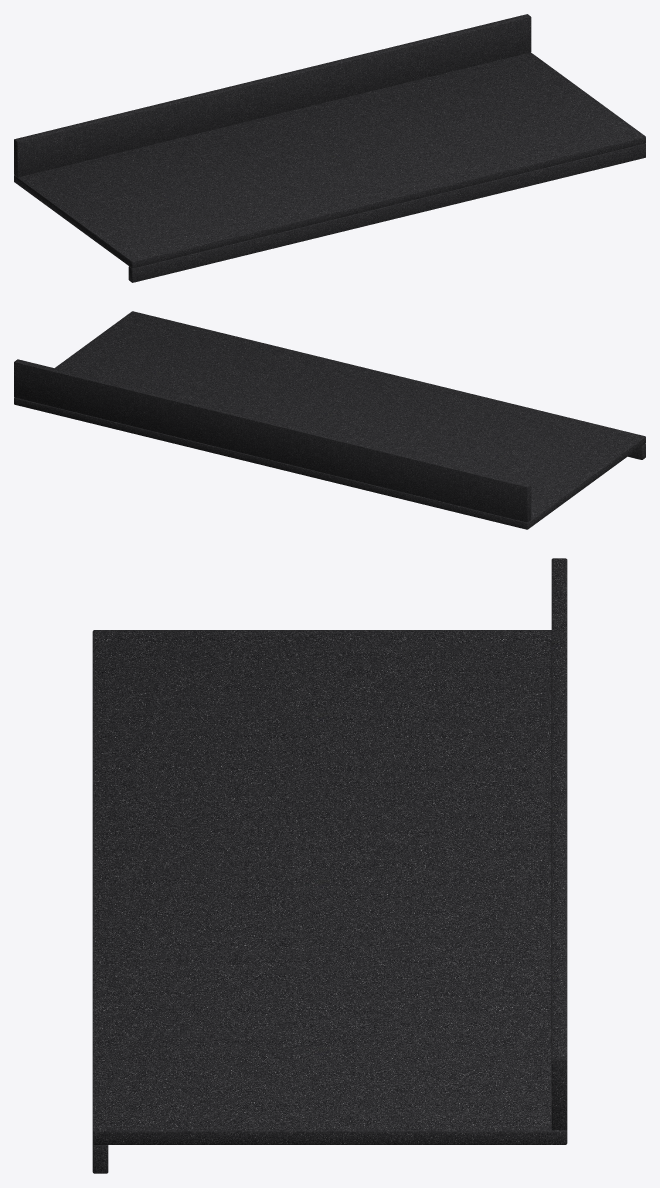
The model's file is REV-PED-001_anim.glb.
3 renders of one model, top to bottom at view 1: azimuth 30°, elevation 25°; view 2: azimuth 150°, elevation 25°; view 3: azimuth 270°, elevation 25°, orthographic. The views are drawn at different scales.
Visible parts, largest first — view 1: REV-PED-001_anim0; view 2: REV-PED-001_anim0; view 3: REV-PED-001_anim0.
Part boxes in pixels (x1,y1,x2,y2): REV-PED-001_anim0: [14, 14, 645, 282]; REV-PED-001_anim0: [14, 311, 645, 529]; REV-PED-001_anim0: [92, 558, 567, 1173].
Size of the model in its own units: 1.5 by 0.16 by 0.6.
1 material, 1 textured.
